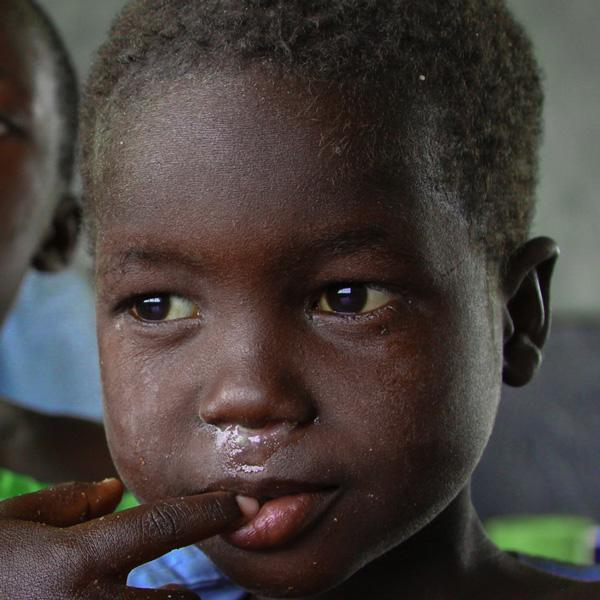Eyes: (292, 269, 415, 334), (106, 274, 211, 342)
